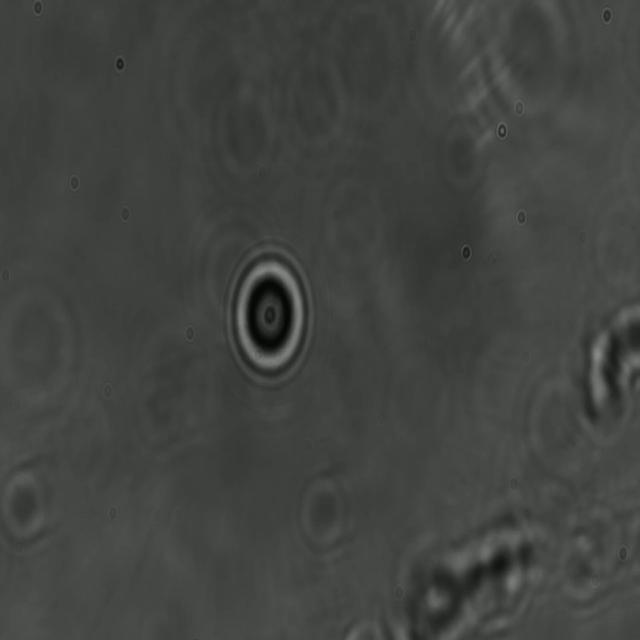LCELL: (224, 242, 318, 394)
